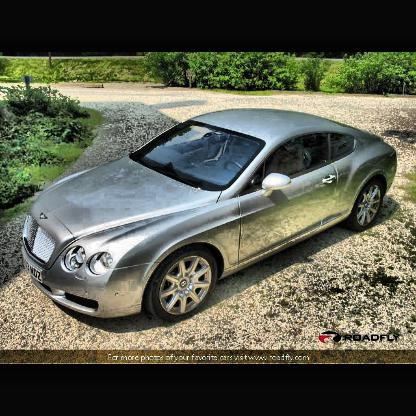Bentley Continental GT Coupe 2007: (25, 111, 398, 324)
